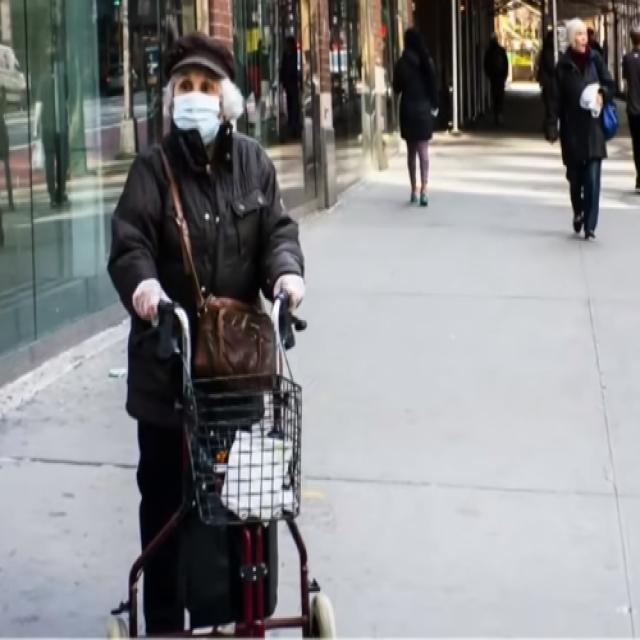hat: (160, 30, 241, 81)
